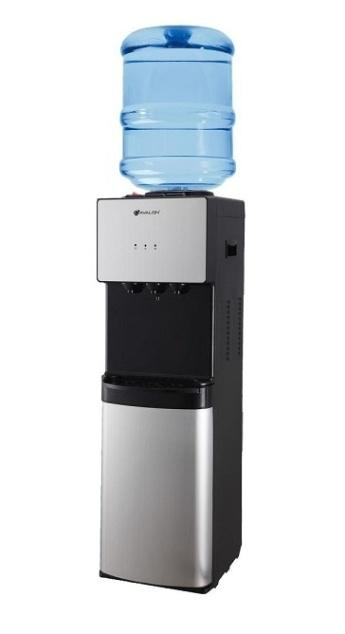Dispenser: (94, 24, 245, 593)
